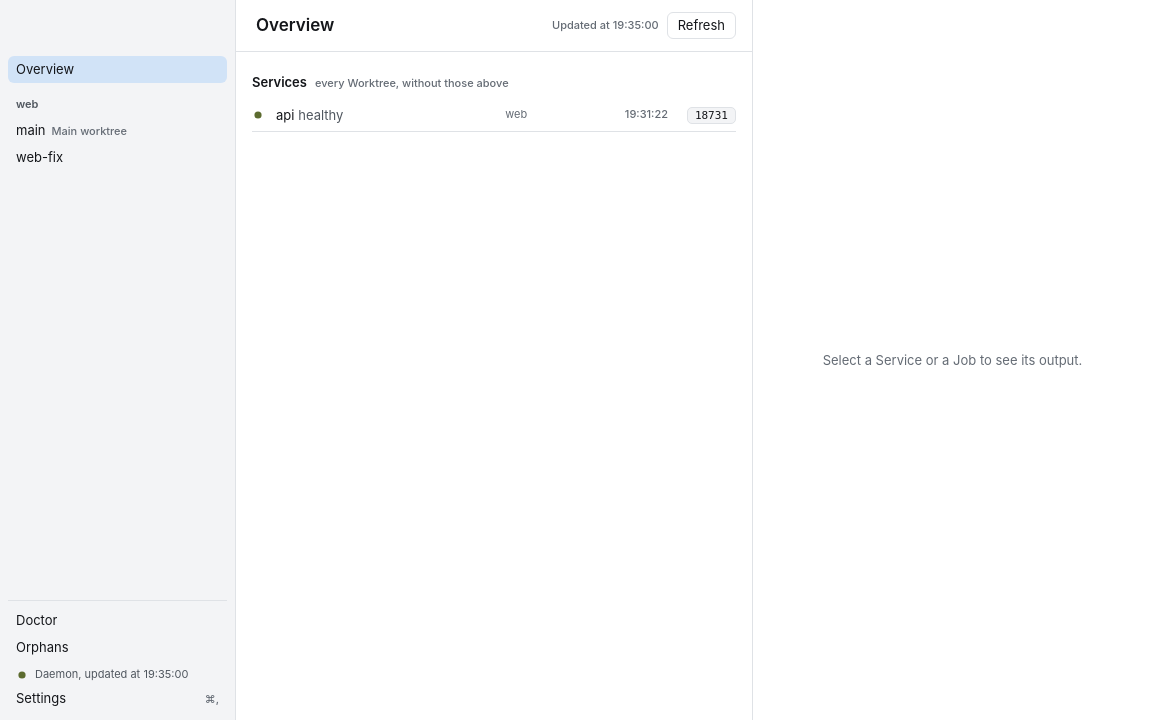
the inspector › states a Service in words with what to do next, and follows its output
Check: the heading "Overview" is shown, box [256,13,334,38]
Click the button "api healthy web 19:31:22".
click(321, 115)  # box [252,106,668,125]
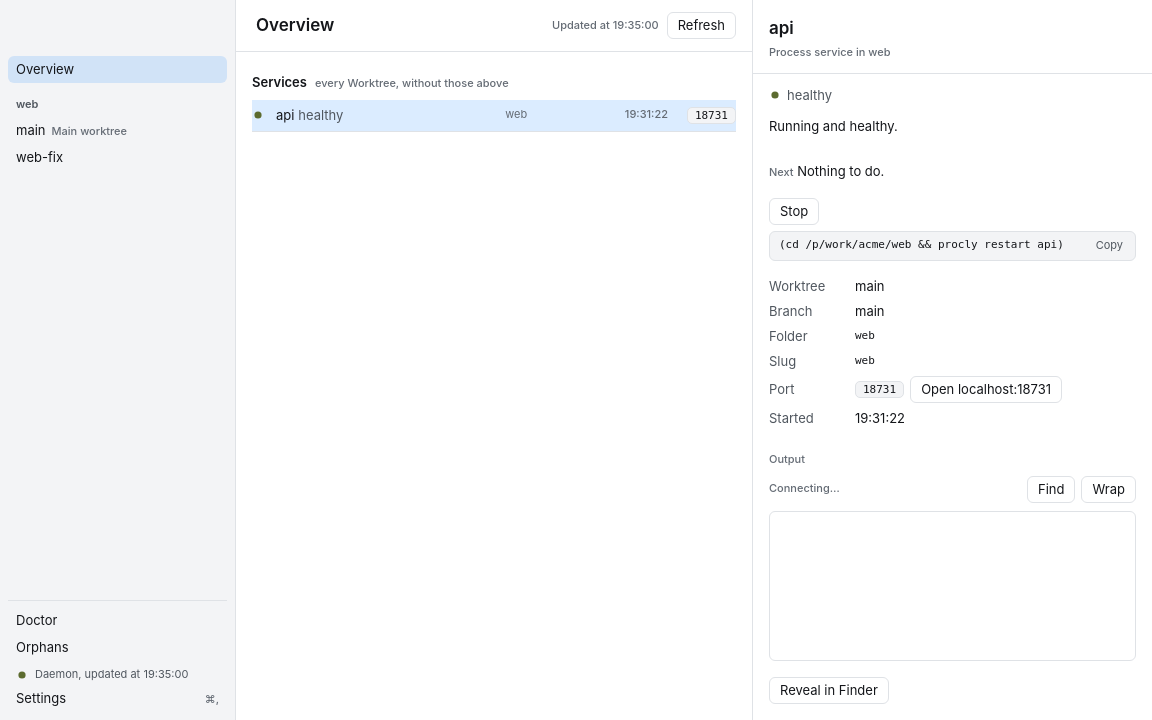
Check: the text "Running and healthy." is shown, box [769,118,898,134]
Check: the text "Nothing to do." is shown, box [797,163,884,179]
Check: the text "Started" is shown, box [769,410,814,426]
